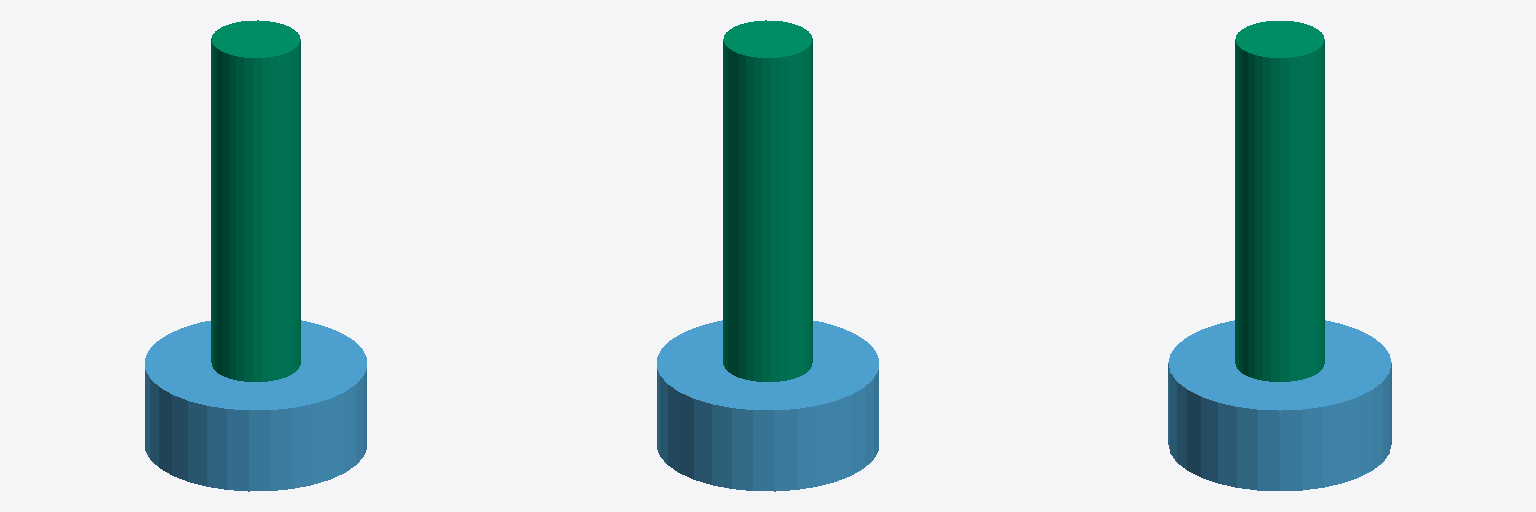
The robot description file, URDF, robot "kinect_robot_1_1":
<?xml version="1.0" ?>
<robot name="kinect_robot_1_1">
  <link name="world"/>
  <link name="base_link">
    <inertial>
      <mass value="1"/>
      <origin rpy="0  0  0" xyz="0  0  0"/>
      <inertia ixx="0.145833" ixy="0" ixz="0" iyy="0.145833" iyz="0" izz="0.125"/>
    </inertial>
    <collision name="base_link_collision">
      <origin rpy="0  0  0" xyz="0    0   -0.25"/>
      <geometry>
        <cylinder length="0.2" radius="0.25"/>
      </geometry>
    </collision>
    <visual name="base_link_visual">
      <origin rpy="0  0  0" xyz="0    0   -0.25"/>
      <geometry>
        <cylinder length="0.2" radius="0.25"/>
      </geometry>
    </visual>
  </link>
  <joint name="fixed" type="fixed">
    <parent link="world"/>
    <child link="base_link"/>
  </joint>
  <link name="link_1">
    <inertial>
      <mass value="1"/>
      <origin rpy="0  0  0" xyz="0  0  0"/>
      <inertia ixx="0.145833" ixy="0" ixz="0" iyy="0.145833" iyz="0" izz="0.125"/>
    </inertial>
    <collision name="link_1_collision">
      <origin rpy="0  0  0" xyz="0  0  0"/>
      <geometry>
        <cylinder length="0.8" radius="0.1"/>
      </geometry>
    </collision>
    <visual name="link_1_visual">
      <origin rpy="0  0  0" xyz="0  0  0"/>
      <geometry>
        <cylinder length="0.8" radius="0.1"/>
      </geometry>
    </visual>
  </link>
  <link name="kinect_link">
    <inertial>
      <mass value="0.1"/>
      <origin rpy="0  0  0" xyz="0  0  0"/>
      <inertia ixx="0" ixy="0" ixz="0" iyy="0" iyz="0" izz="0"/>
    </inertial>
    <collision name="kinect_link_collision">
      <origin rpy="0  0  0" xyz="0  0  0"/>
      <geometry>
        <box size="0.073 0.276 0.072"/>
      </geometry>
    </collision>
    <visual name="kinect_link_visual">
      <origin rpy="0  0  0" xyz="0  0  0"/>
      <geometry>
        <mesh filename="package://surf_rec/meshes/kinect.dae" scale="1.0 1.0 1.0"/>
      </geometry>
    </visual>
  </link>
<!-- For solving the issue of point cloud wrong orientation -->
  <link name="camera_link_optical">
  </link>
  
  <joint name="camera_optical_joint" type="fixed">
    <origin xyz="0 0 0" rpy="-1.57 0 -1.57"/>
    <parent link="kinect_link"/>
    <child link="camera_link_optical"/>
  </joint>
<!-- ...................................................... -->
  <gazebo reference="kinect_link">
    <sensor name="camera" type="depth">
      <update_rate>2</update_rate>
      <camera name="__default__">
        <horizontal_fov>1.0472</horizontal_fov>
        <image>
          <width>500</width>
          <height>500</height>
          <format>R8G8B8</format>
        </image>
        <clip>
          <near>0.1</near>
          <far>3000</far>
        </clip>
      </camera>
      <plugin name="camera_plugin" filename="libgazebo_ros_openni_kinect.so">
        <baseline>0.2</baseline>
        <alwaysOn>1</alwaysOn>
        <updateRate>0.0</updateRate>
        <cameraName>camera_ir</cameraName>
        <imageTopicName>/camera/depth/image_raw</imageTopicName>
        <cameraInfoTopicName>/camera/depth/camera_info</cameraInfoTopicName>
        <depthImageTopicName>/camera/depth/image_raw</depthImageTopicName>
        <depthImageInfoTopicName>/camera/depth/camera_info</depthImageInfoTopicName>
        <pointCloudTopicName>/camera/depth/points</pointCloudTopicName>
        <frameName>camera_link_optical</frameName>
        <pointCloudCutoff>0.1</pointCloudCutoff>
        <distortionK1>0</distortionK1>
        <distortionK2>0</distortionK2>
        <distortionK3>0</distortionK3>
        <distortionT1>0</distortionT1>
        <distortionT2>0</distortionT2>
        <CxPrime>0</CxPrime>
        <Cx>0</Cx>
        <Cy>0</Cy>
        <focalLength>0</focalLength>
        <hackBaseline>0</hackBaseline>
      </plugin>
    </sensor>
  </gazebo>
  <joint name="joint_0" type="continuous">
    <parent link="base_link"/>
    <child link="link_1"/>
    <origin rpy="0  0  0" xyz="0    0    0.25"/>
    <axis xyz="0  0  1"/>
  </joint>
  <transmission name="transmission_0">
    <type>transmission_interface/SimpleTransmission</type>
    <joint name="joint_0">
      <hardwareInterface>EffortJointInterface</hardwareInterface>
    </joint>
    <actuator name="motor_0">
      <mechanicalReduction>1</mechanicalReduction>
      <hardwareInterface>EffortJointInterface</hardwareInterface>
    </actuator>
  </transmission>
  <!-- <gazebo reference="JOINT_0">
    <plugin name="kinect_rotation_control" filename="package://surf_rec/plugins/libkinect_robot_rotation_plugin.so">
      <velocity>0.1</velocity>
    </plugin>
  </gazebo> -->
  <joint name="joint_1" type="fixed">
    <parent link="link_1"/>
    <child link="kinect_link"/>
    <origin rpy="0  0  0" xyz="4.40000000e-04   3.11000000e-03   4.60750000e-01"/>
    <axis xyz="0  0  0"/>
    <limit effort="0" lower="0" upper="0" velocity="0"/>
  </joint>
  <gazebo>
    <plugin name="gazebo_ros_control" filename="libgazebo_ros_control.so">
      <robotNamespace>/kinect_robot_1_1</robotNamespace>
    </plugin>
  </gazebo>
</robot>

--- What the picture shows (computed from the rendered views, not written in the file) ---
Views: 3 orthographic renders of the robot side by side, from view 1: azimuth 30°, elevation 25°; view 2: azimuth 150°, elevation 25°; view 3: azimuth 270°, elevation 25°.
Model kinect_robot_1_1 with 5 links and 4 joints (1 continuous, 3 fixed), rooted at world, posed every joint at zero.
Links seen in each view (by area): view 1: link_1, base_link; view 2: link_1, base_link; view 3: link_1, base_link.
Boxes of the visible links, left/top/right/bottom form: link_1: left=211, top=20, right=300, bottom=381; base_link: left=145, top=320, right=366, bottom=491; link_1: left=723, top=20, right=812, bottom=381; base_link: left=657, top=320, right=878, bottom=491; link_1: left=1235, top=21, right=1324, bottom=381; base_link: left=1168, top=320, right=1391, bottom=490.
Bounding box of the posed robot: 0.5 × 0.5 × 1 m (x, y, z).
Meshes: 1 distinct files referenced, 0 mesh visuals loaded (none loaded); not drawn: 1 (reference not matched to a file when rendering).